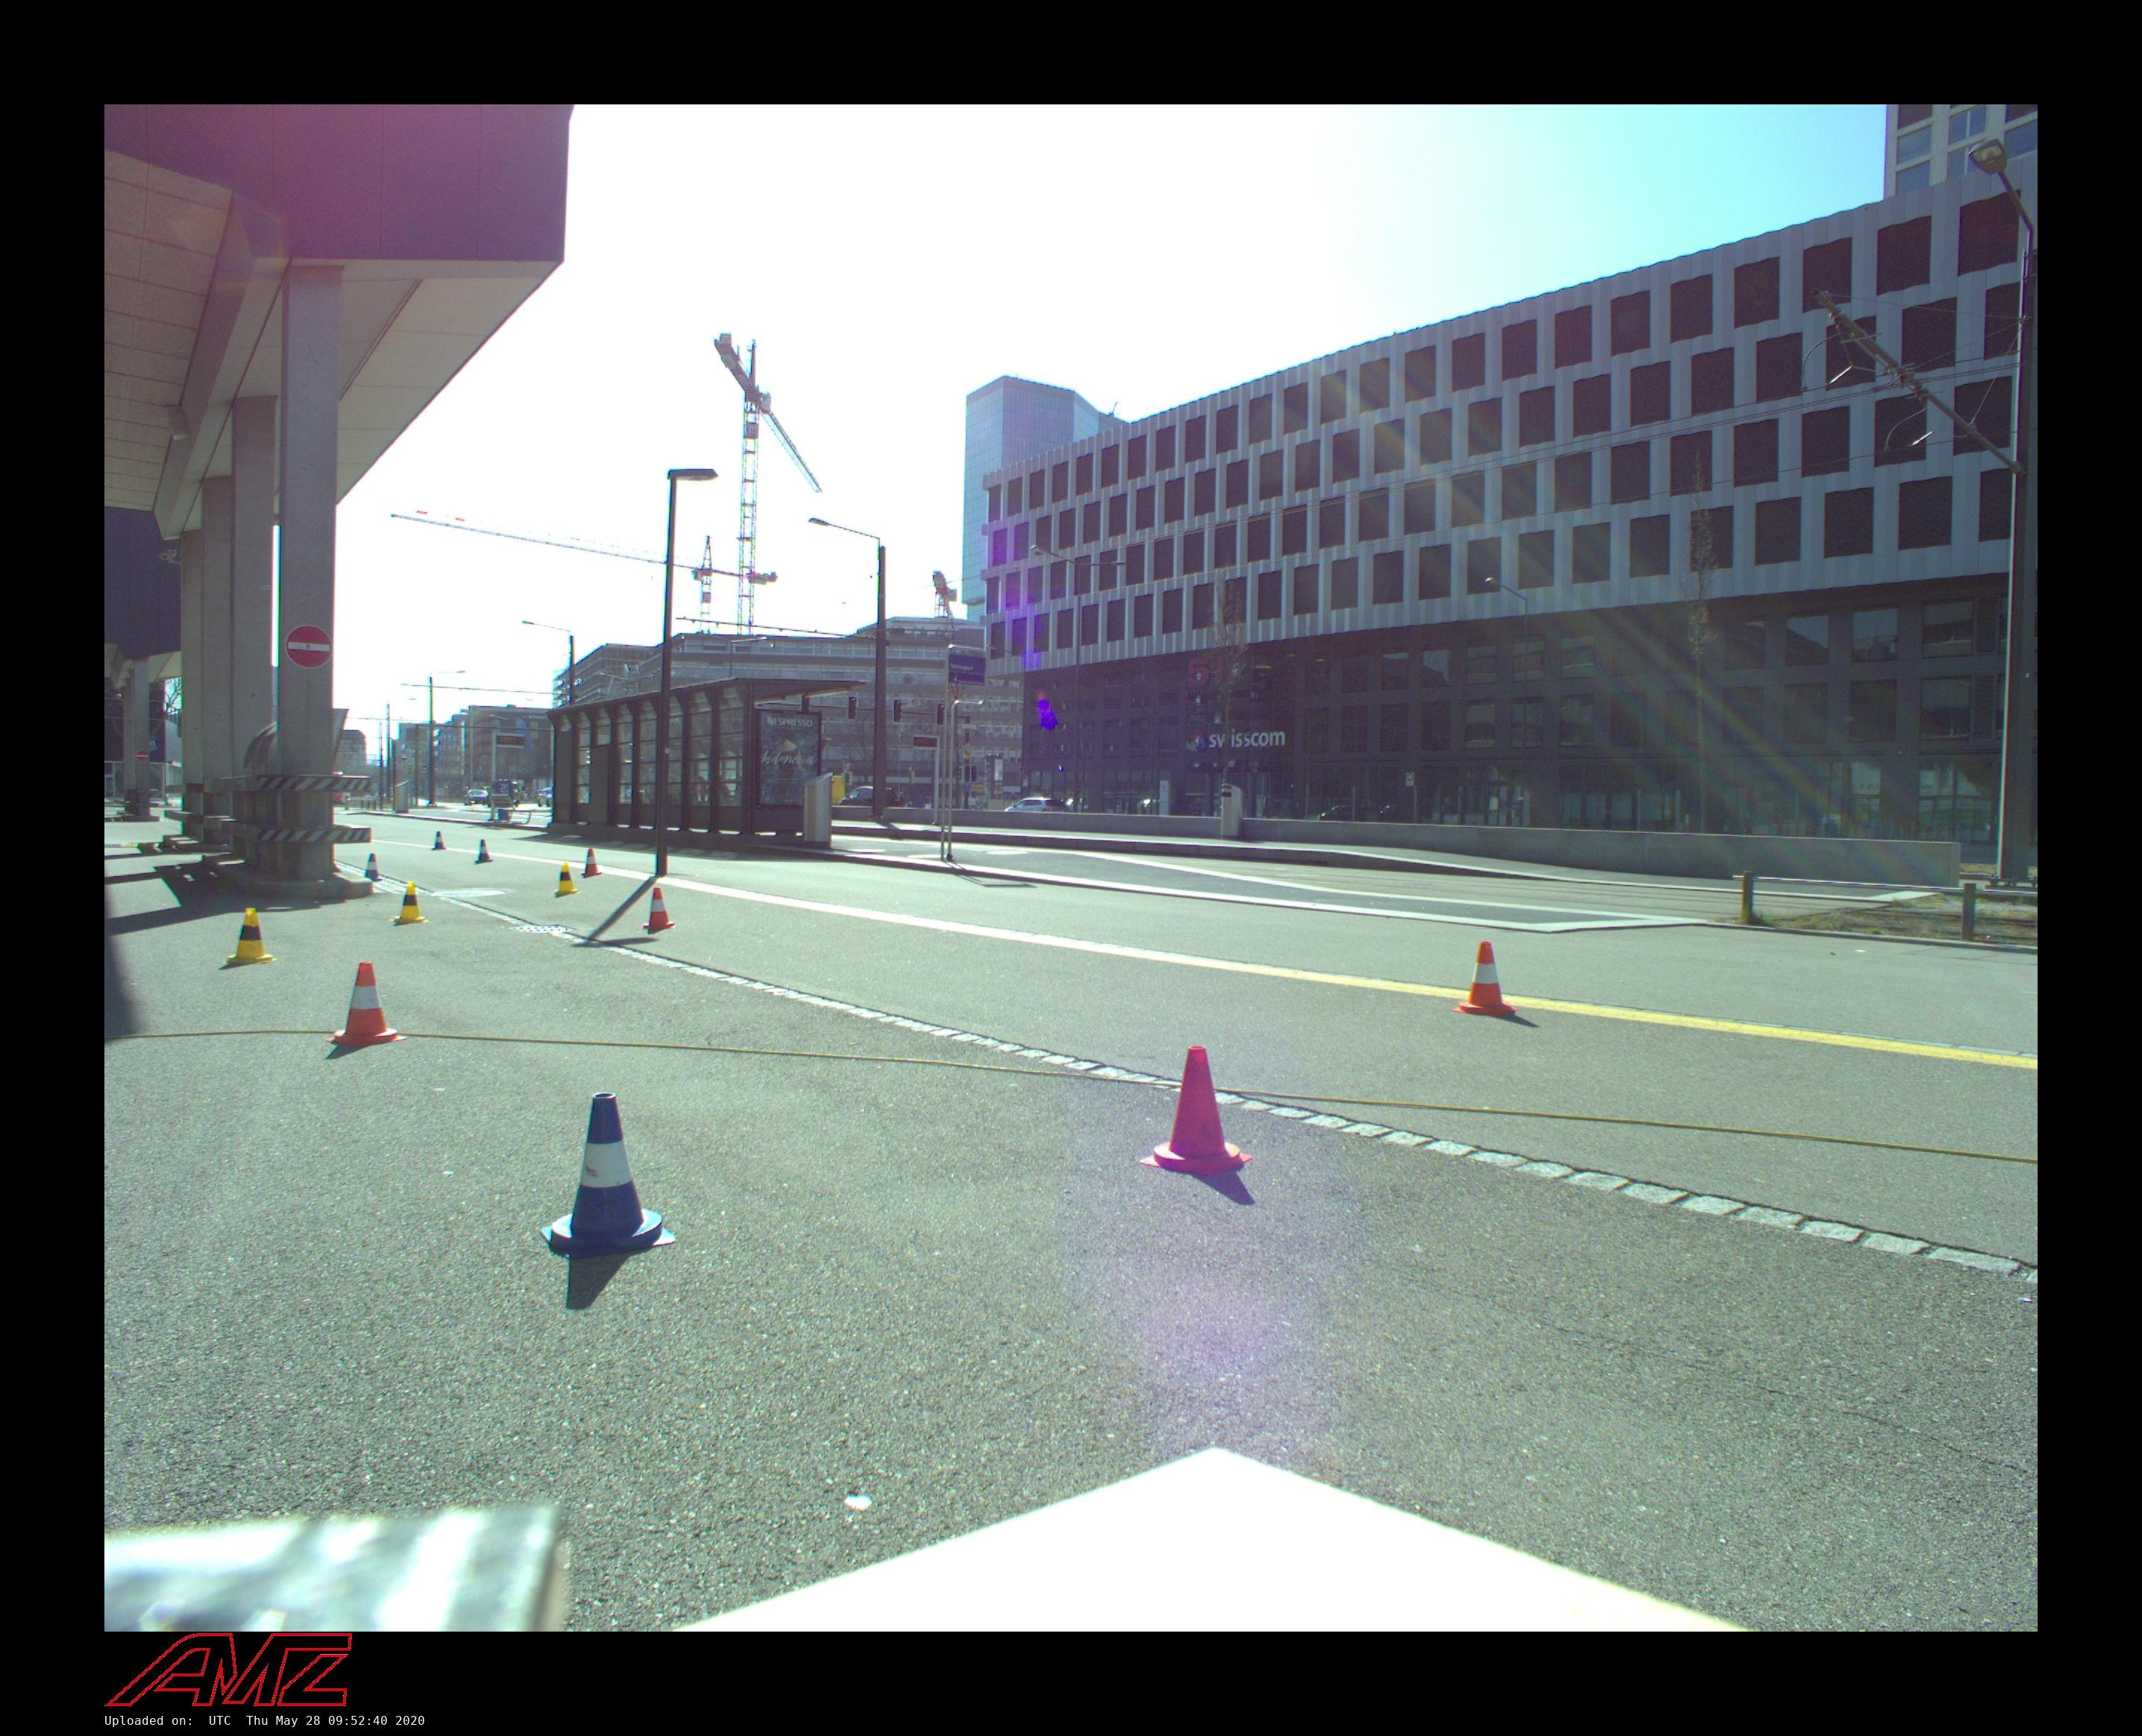blue_cone: (538, 1093, 676, 1259), (363, 853, 383, 881), (475, 840, 493, 864), (432, 831, 446, 850)
orange_cone: (1138, 1045, 1252, 1175), (325, 962, 406, 1047), (1451, 941, 1519, 1016), (644, 888, 674, 928), (582, 849, 603, 875)
yellow_cone: (224, 908, 277, 965), (389, 881, 430, 924), (553, 862, 580, 896)
